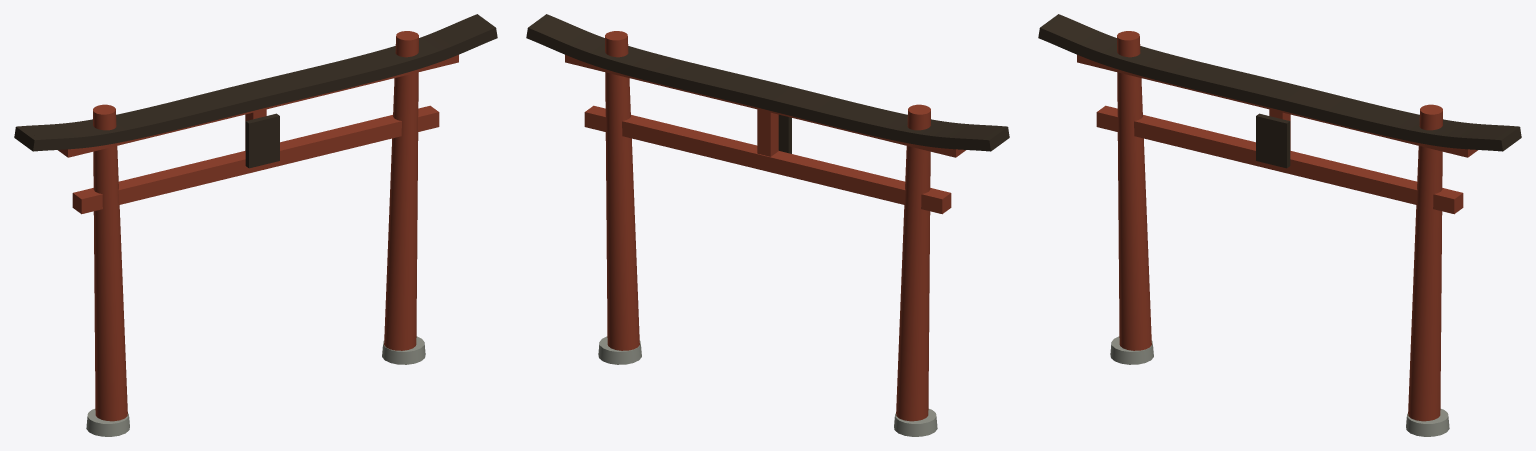
File: torii.glb
3 views of the same model, side by side, from view 1: azimuth 30°, elevation 25°; view 2: azimuth 150°, elevation 25°; view 3: azimuth 330°, elevation 25° (orthographic).
Parts seen in each view (by area): view 1: vermilion, darkwood, stone; view 2: vermilion, darkwood, stone; view 3: vermilion, darkwood, stone.
Boxes of the visible parts, x1,y1,x2,y2 form: vermilion: (58,31,458,421); darkwood: (14,14,497,168); stone: (86,336,425,436); vermilion: (565,31,965,421); darkwood: (526,14,1009,153); stone: (598,336,937,436); vermilion: (1077,31,1477,421); darkwood: (1038,14,1521,168); stone: (1110,336,1449,436).
Bounding box in the file's own units: 9.75 × 6.41 × 0.8.
